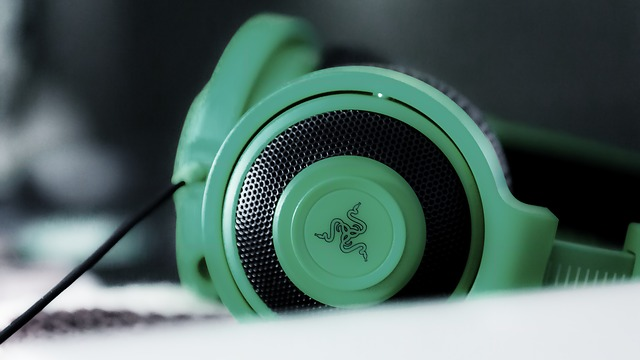headphones: (173, 15, 639, 322)
